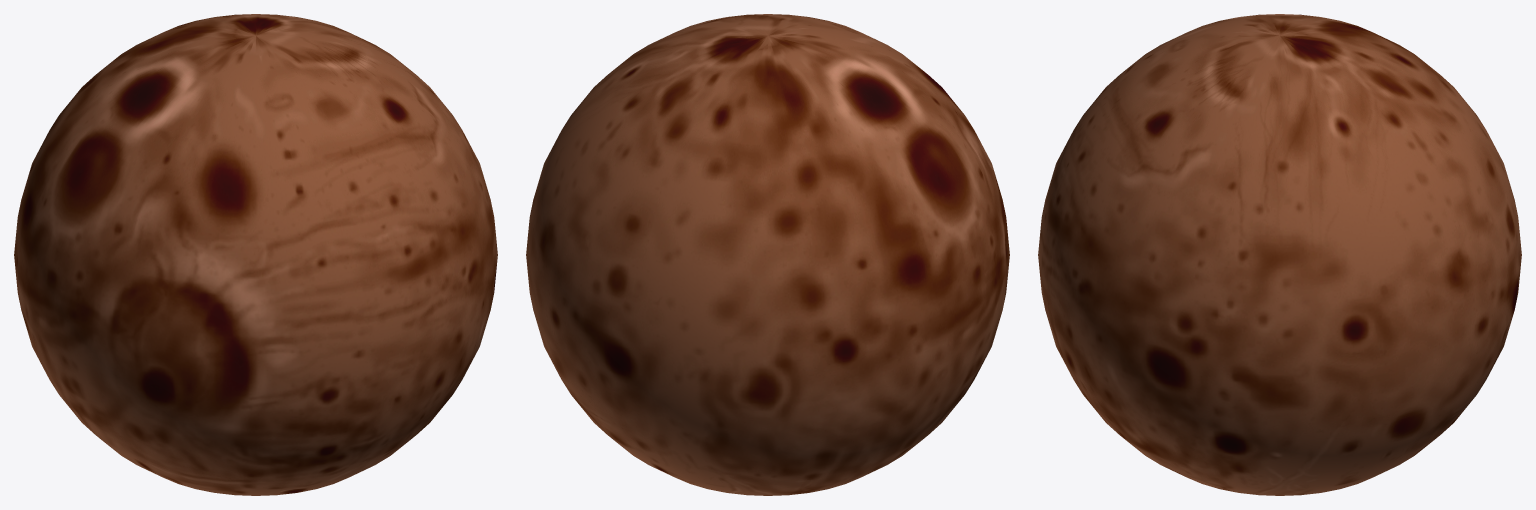
Rendered from Phobos.FBX.
The picture shows the model from 3 angles, left to right: view 1: azimuth 30°, elevation 25°; view 2: azimuth 150°, elevation 25°; view 3: azimuth 270°, elevation 25°; orthographic projection.
Parts seen in each view (by area): view 1: Sphere01; view 2: Sphere01; view 3: Sphere01.
Part boxes in pixels (box(x1,y1,x2,y2)): Sphere01: box(14, 14, 497, 495); Sphere01: box(526, 14, 1009, 495); Sphere01: box(1038, 14, 1521, 495).
Size of the model in its own units: 40 by 40 by 40.
1 material, 1 textured.
